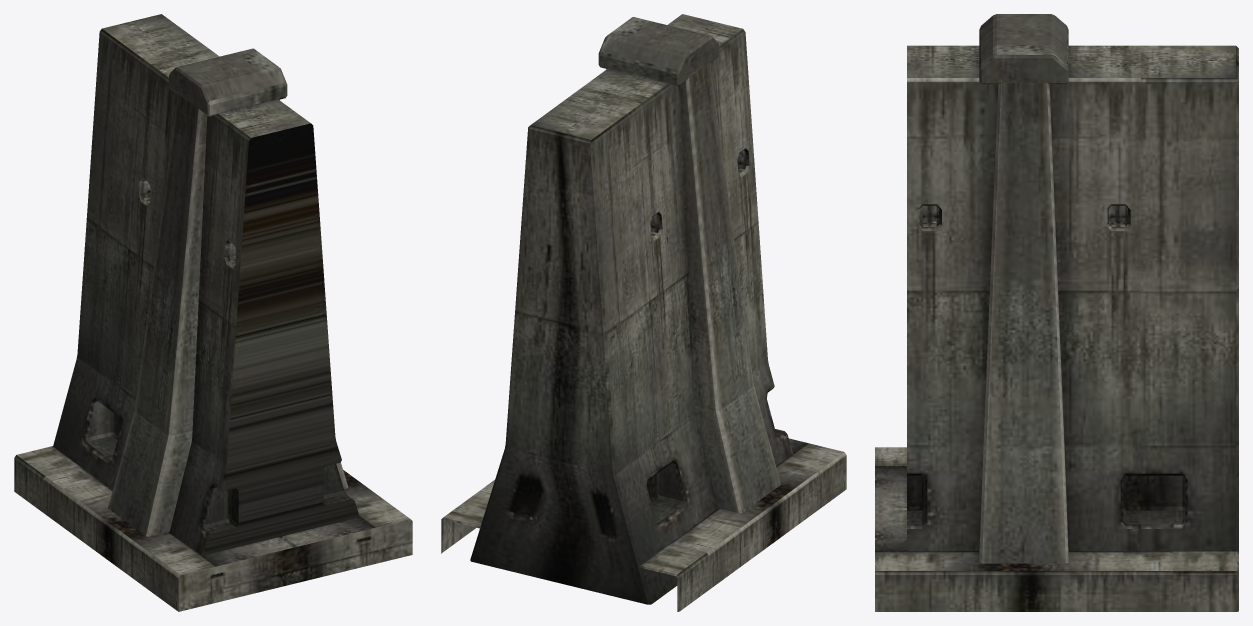
The model's file is stone-wall-n.glb.
The picture shows the model from 3 angles, left to right: view 1: azimuth 30°, elevation 25°; view 2: azimuth 150°, elevation 25°; view 3: azimuth 270°, elevation 25°; orthographic projection. The views are drawn at different scales.
Visible parts, largest first — view 1: body; view 2: body; view 3: body.
Part boxes in pixels (x1,y1,x2,y2): body: (14,14,412,611); body: (441,14,846,611); body: (875,14,1238,611).
Size of the model in its own units: 0.6932 by 1.32 by 0.8466.
Materials: 1 (1 with a texture image).
